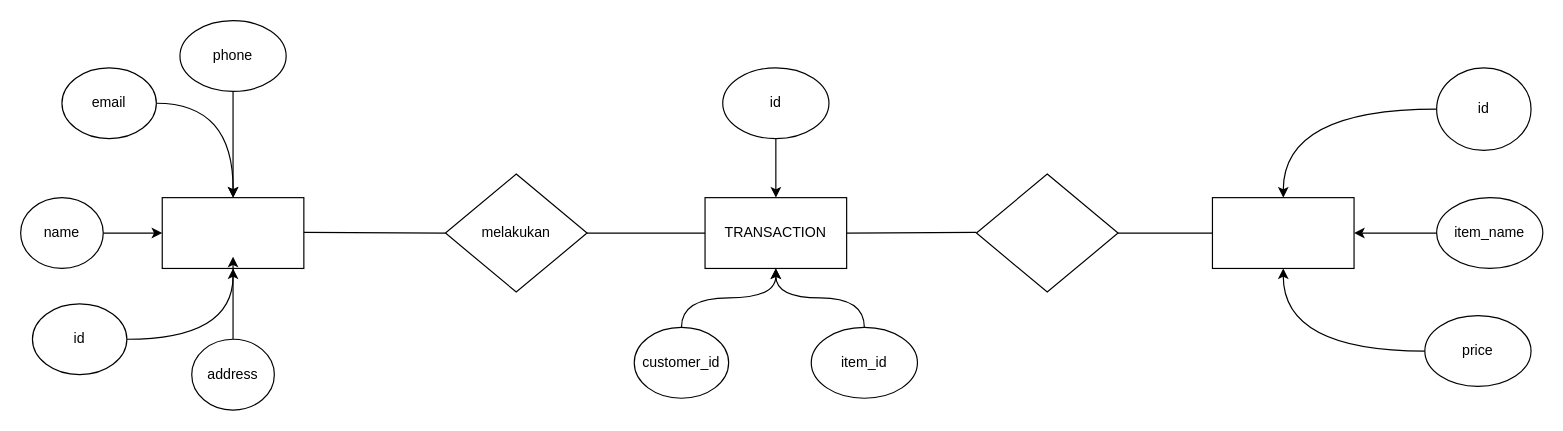
Some shapes in this 1563 by 431 pixel diagram are drawn without their labels. The centre of each missing label's shape, as x and y in pixels:
"CUSTOMER" belongs at point (232, 232).
"ITEM" belongs at point (1282, 232).
"menyimpan" belongs at point (1046, 232).
